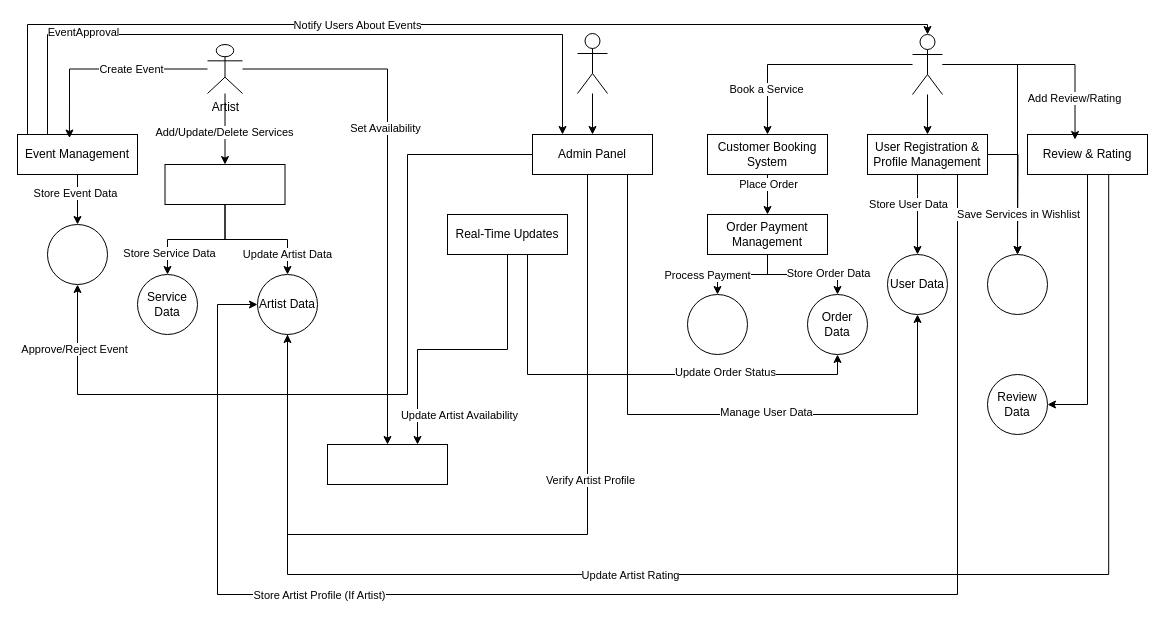
This 1165x620 diagram has some shape labels left out. The centre of each missing label's shape, as x and y in pixels:
"Admin" belongs at (592,63).
"Artist Availability Management" belongs at (387,464).
"Event Data" belongs at (77,254).
"Payment Data" belongs at (717,324).
"Service Management" belongs at (224,184).
"User" belongs at (927,64).
"Wishlist Data" belongs at (1017,284).
